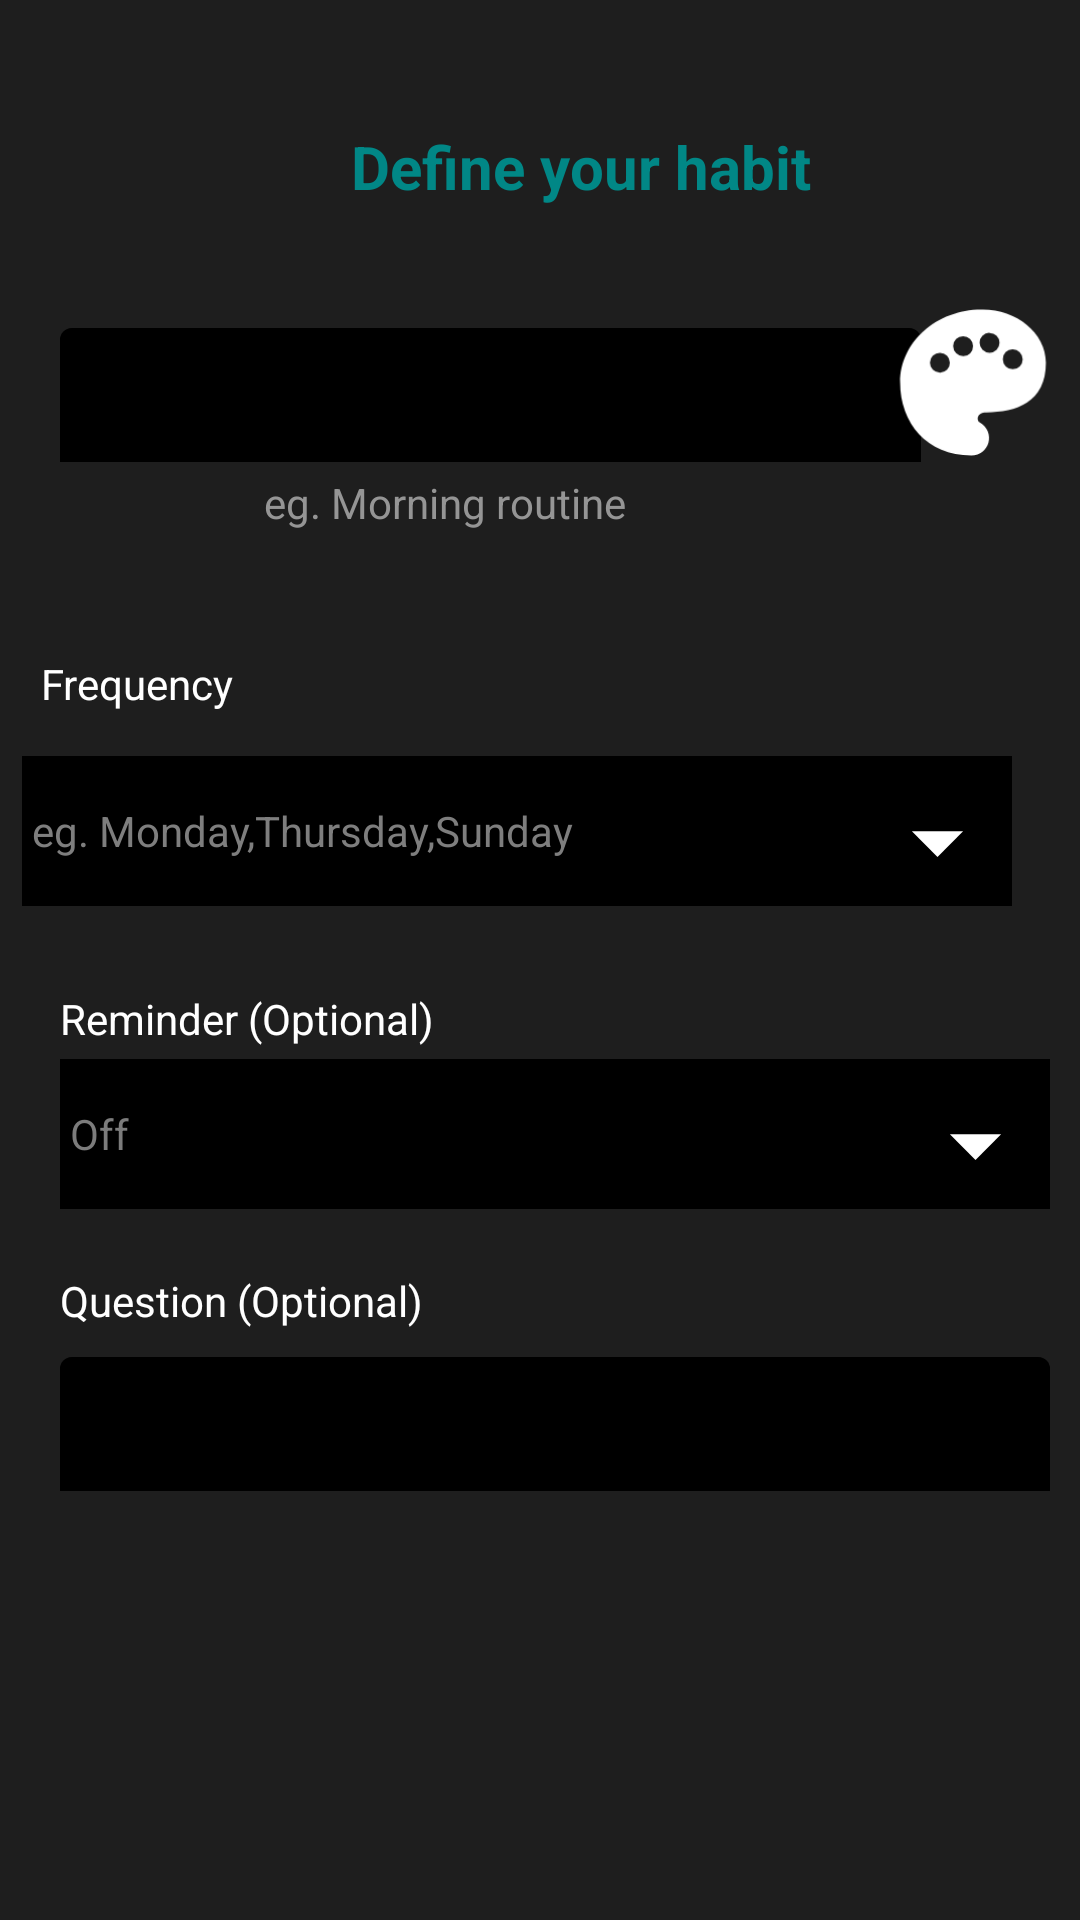

Icon click points for this 1080 x 1920 phone screenshot, format point (x, y):
arrow drop down: point (937, 844), point (975, 1147)
